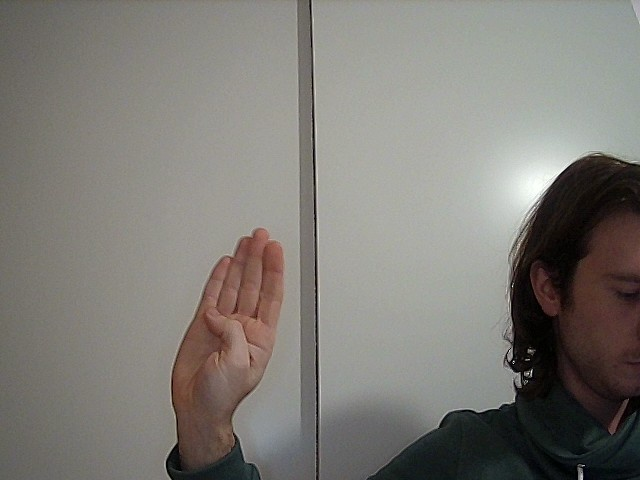b: (168, 213, 298, 423)
